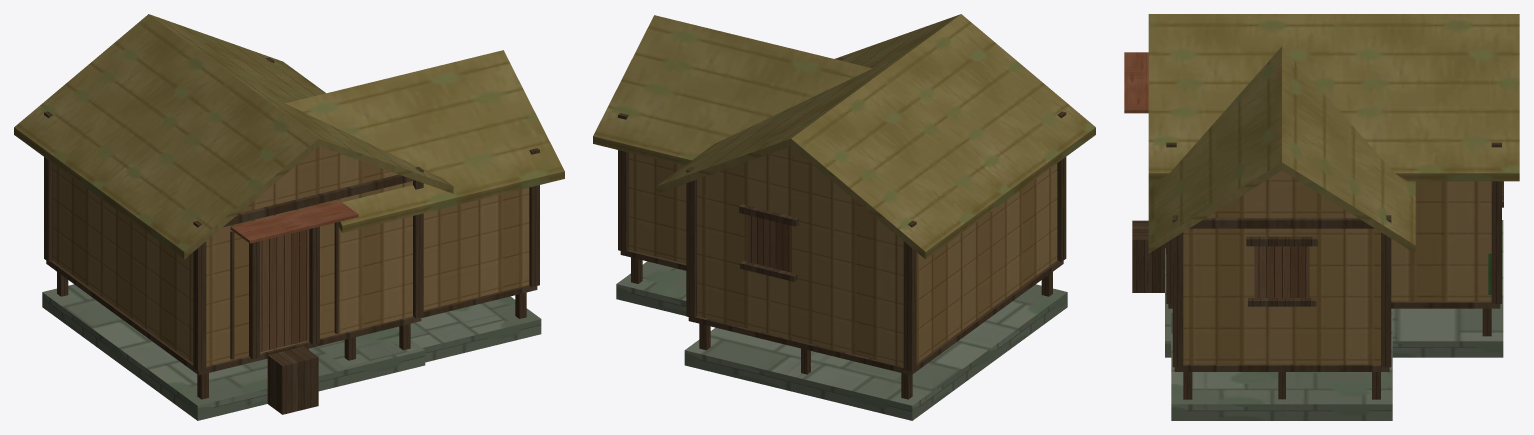
The model's file is ae_jungle_wood_medium_l_lod0.glb.
3 renders of one model, left to right at view 1: azimuth 30°, elevation 25°; view 2: azimuth 150°, elevation 25°; view 3: azimuth 270°, elevation 25°, orthographic. The views are drawn at different scales.
Parts seen in each view (by area): view 1: ae_jungle_wood_medium_l_lod0; view 2: ae_jungle_wood_medium_l_lod0; view 3: ae_jungle_wood_medium_l_lod0.
Boxes of the visible parts, x1,y1,x2,y2 form: ae_jungle_wood_medium_l_lod0: (14,14,564,420); ae_jungle_wood_medium_l_lod0: (593,14,1095,420); ae_jungle_wood_medium_l_lod0: (1124,14,1519,420).
Size of the model in its own units: 7.35 by 4.8 by 6.08.
Materials: 1 (1 with a texture image).
